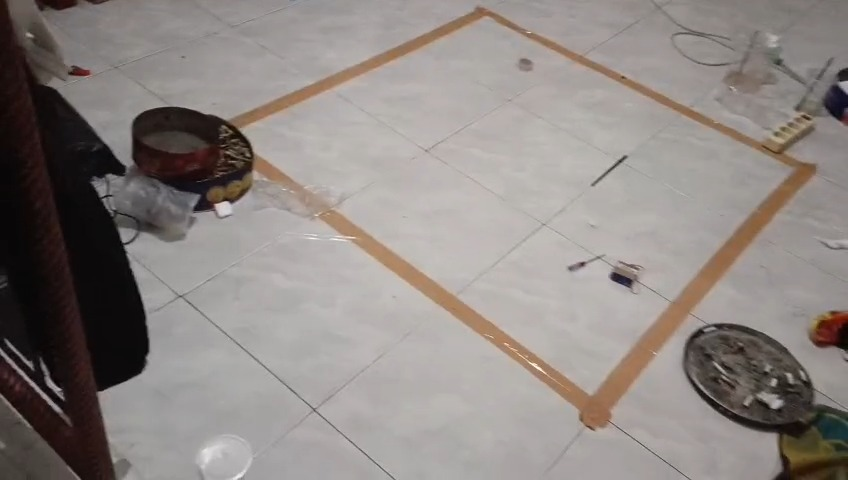floor marking: (231, 7, 816, 429), (255, 154, 327, 207)
